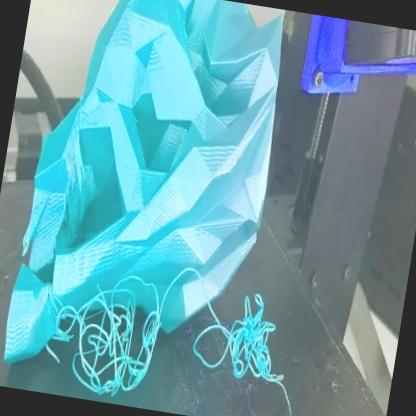fail: (44, 253, 172, 410), (186, 268, 311, 416)
